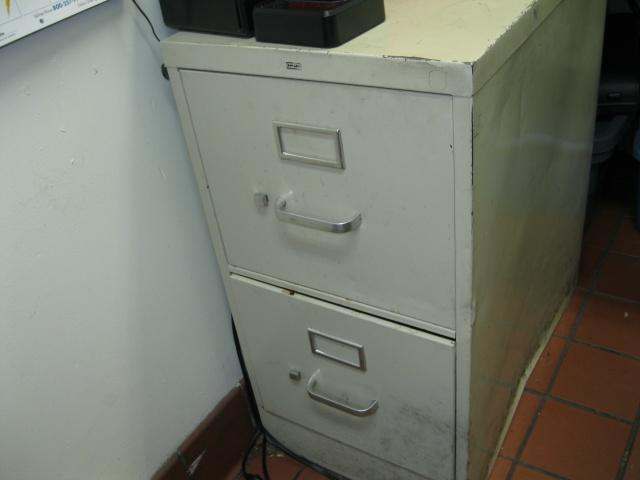Filing Cabinet: (157, 40, 476, 479)
